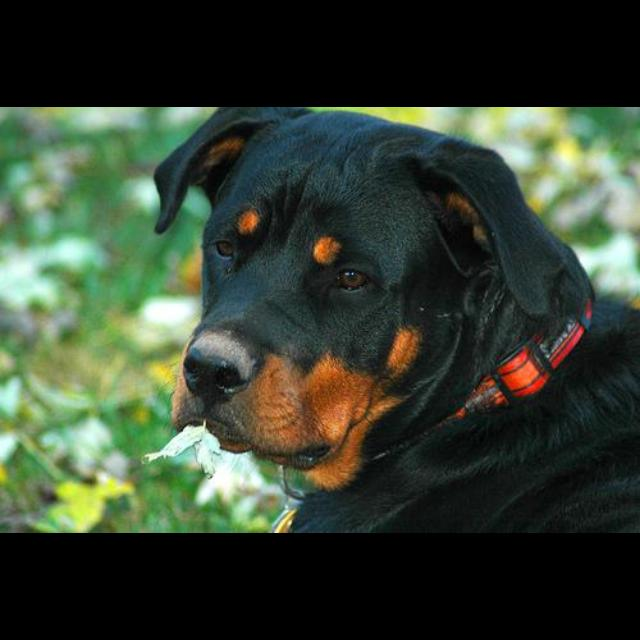rottweiler: (153, 108, 640, 532)
